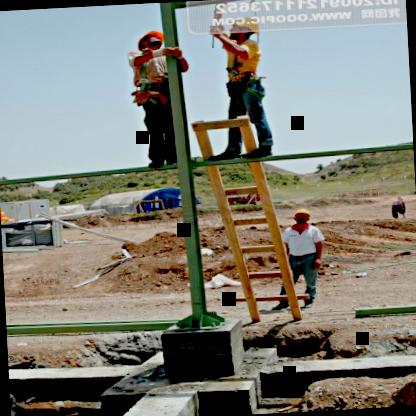helmet: (226, 16, 266, 43), (135, 27, 169, 58), (291, 206, 313, 228)
